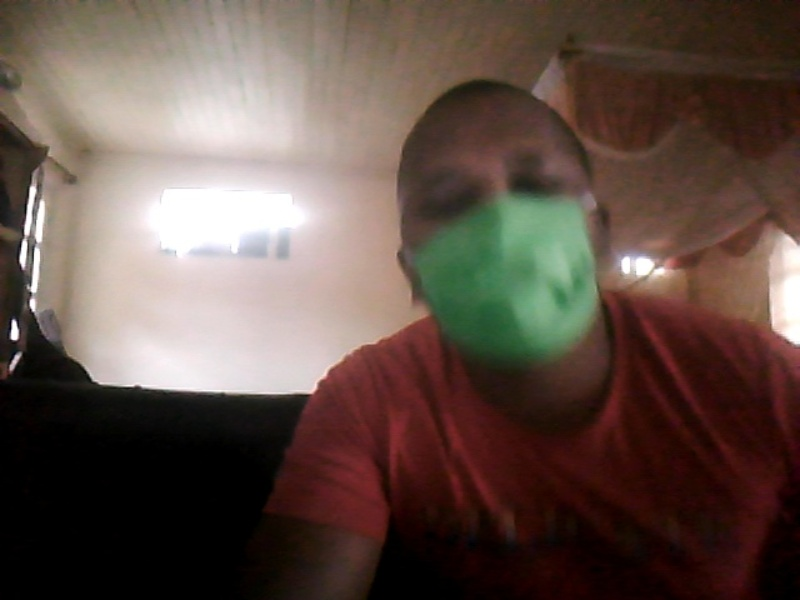ManaoArotava: (373, 86, 631, 372)
